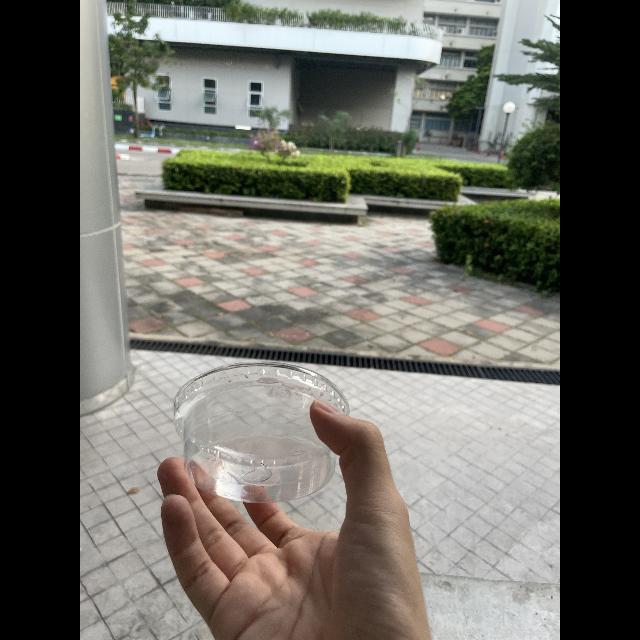plastic_cup_lid: (165, 350, 348, 510)
